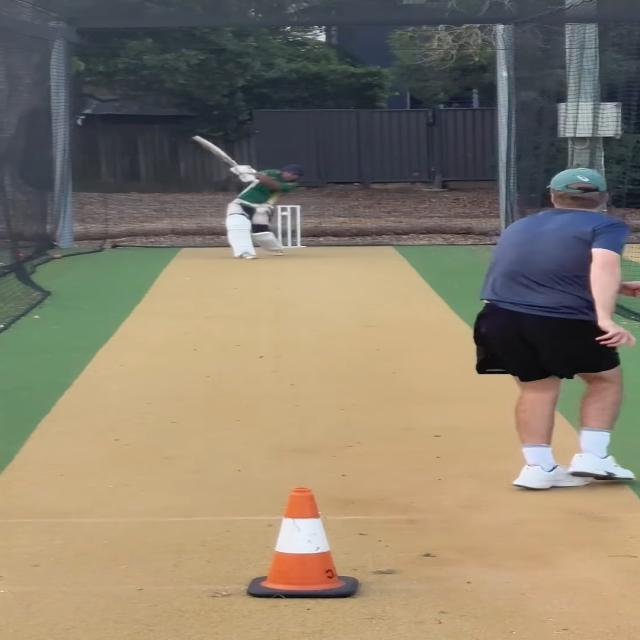ball: (278, 210, 289, 218)
stump: (275, 203, 305, 250)
